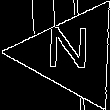N_S: (48, 27, 96, 80)
